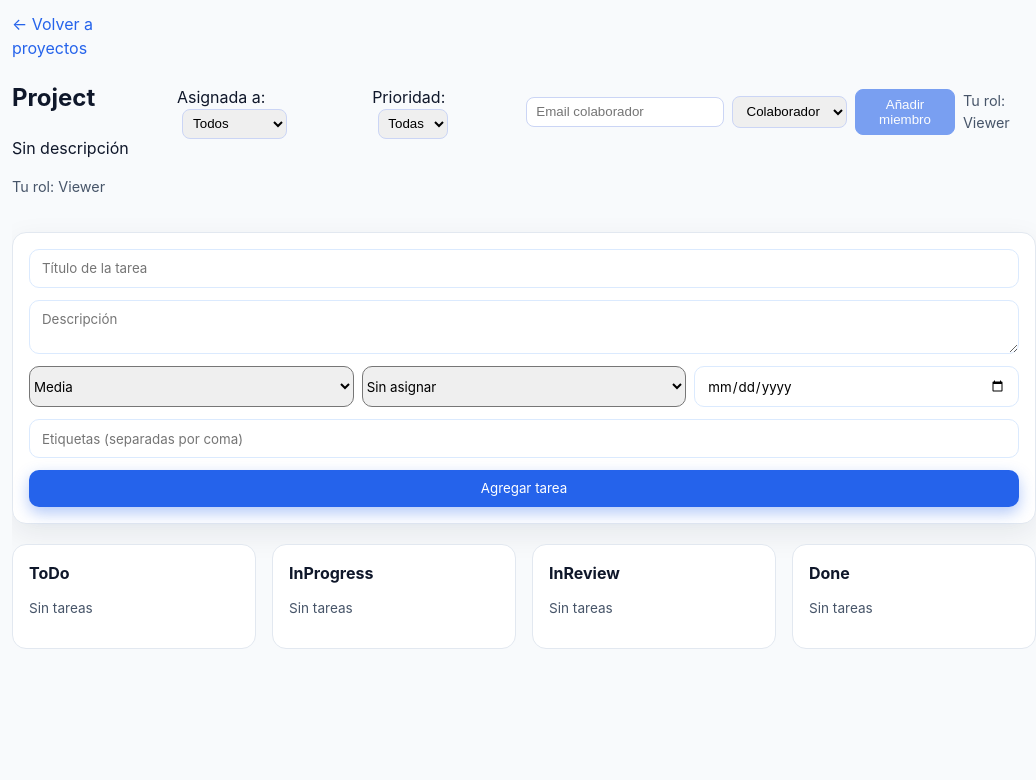
Scenario: ProjectBoardPage › impide crear tareas si el usuario es viewer
Expected: the heading "Project" is shown, [12,83,95,112]
Type "Nueva tarea" into the field with placeholder "Título de la tarea" at [524, 268], box [29,249,1019,288]
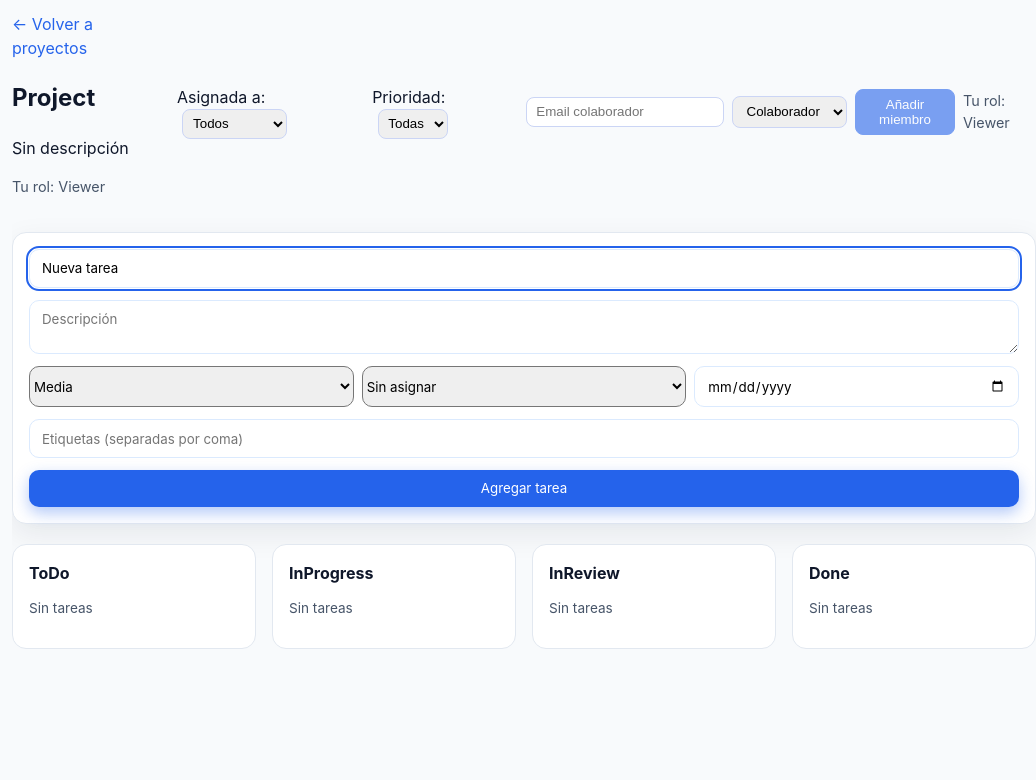
Click the button "Agregar tarea" at [524, 488], box [29,470,1019,507]
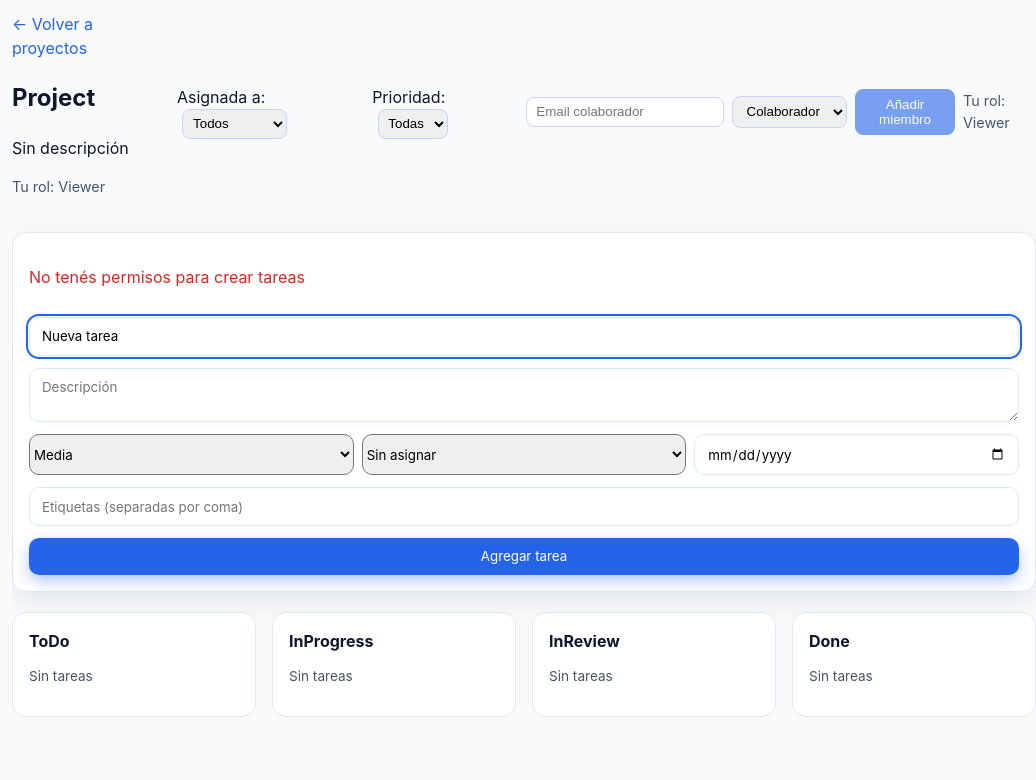
Expected: the text "No tenés permisos para crear tareas" is shown, [29,267,305,287]
